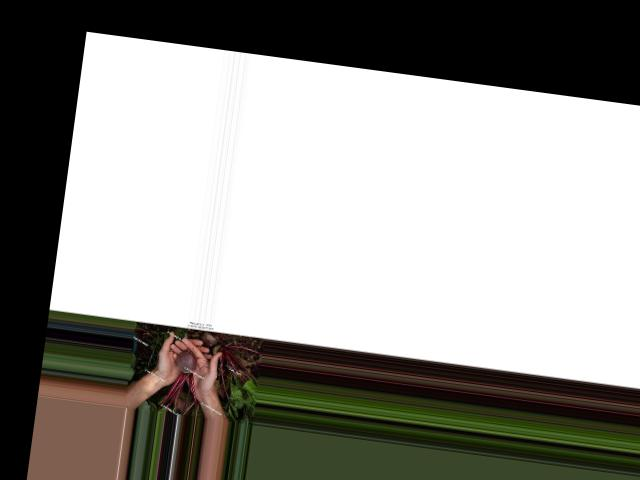beet: (156, 345, 204, 415)
